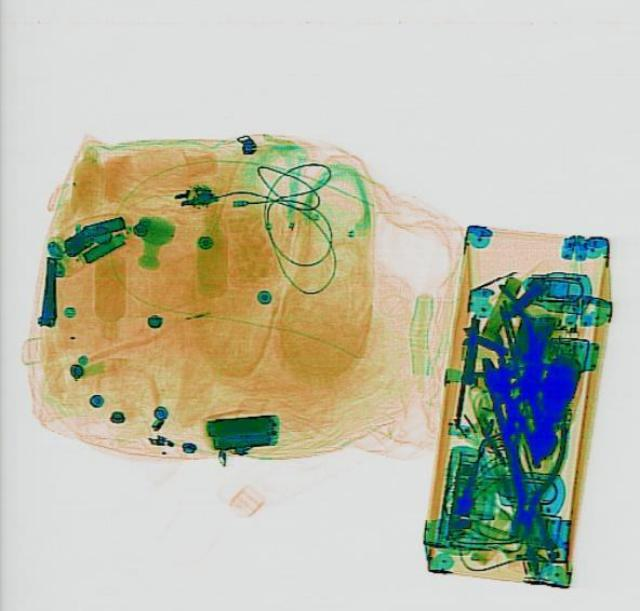Pliers: (486, 404, 572, 545)
